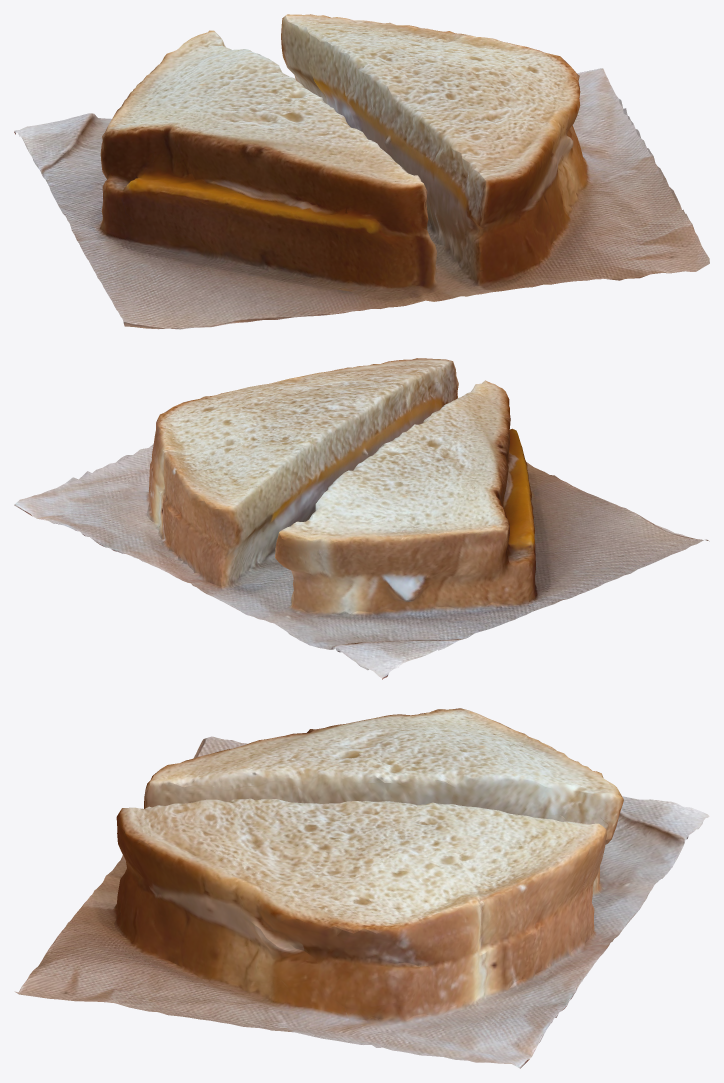
Rendered from turkey_sandwich.glb.
The picture shows the model from 3 angles, top to bottom: view 1: azimuth 30°, elevation 25°; view 2: azimuth 150°, elevation 25°; view 3: azimuth 270°, elevation 25°; orthographic projection. The views are drawn at different scales.
Visible parts, largest first — view 1: Object_4; view 2: Object_4; view 3: Object_4.
Part boxes in pixels (<box>): Object_4: <box>14,14,709,329</box>; Object_4: <box>14,358,709,679</box>; Object_4: <box>14,708,709,1068</box>.
Bounding box in the file's own units: 0.2499 × 0.0448 × 0.2257.
Materials: 1 (1 with a texture image).
